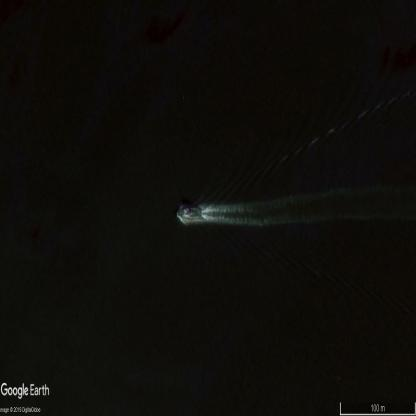ship: (177, 204, 202, 222)
